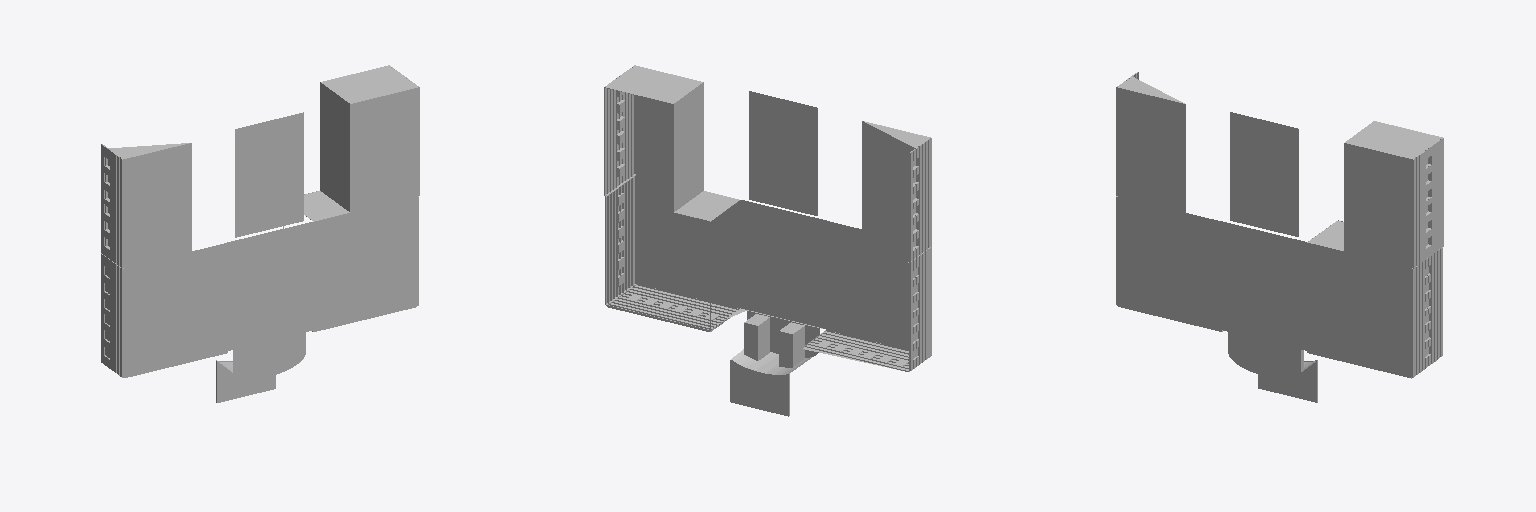
Rendered from kilniskiego 1trzecia.obj.
The picture shows the model from 3 angles: view 1: azimuth 30°, elevation 25°; view 2: azimuth 150°, elevation 25°; view 3: azimuth 330°, elevation 25°; orthographic projection.
Visible parts, largest first — view 1: Urzad_miejski_kilinskiego; view 2: Urzad_miejski_kilinskiego; view 3: Urzad_miejski_kilinskiego.
Part boxes in pixels (left/top/right/bottom): Urzad_miejski_kilinskiego: left=101, top=65, right=419, bottom=402; Urzad_miejski_kilinskiego: left=604, top=65, right=931, bottom=416; Urzad_miejski_kilinskiego: left=1116, top=72, right=1443, bottom=402.
Size of the model in its own units: 0.0407 by 0.0382 by 0.0071.